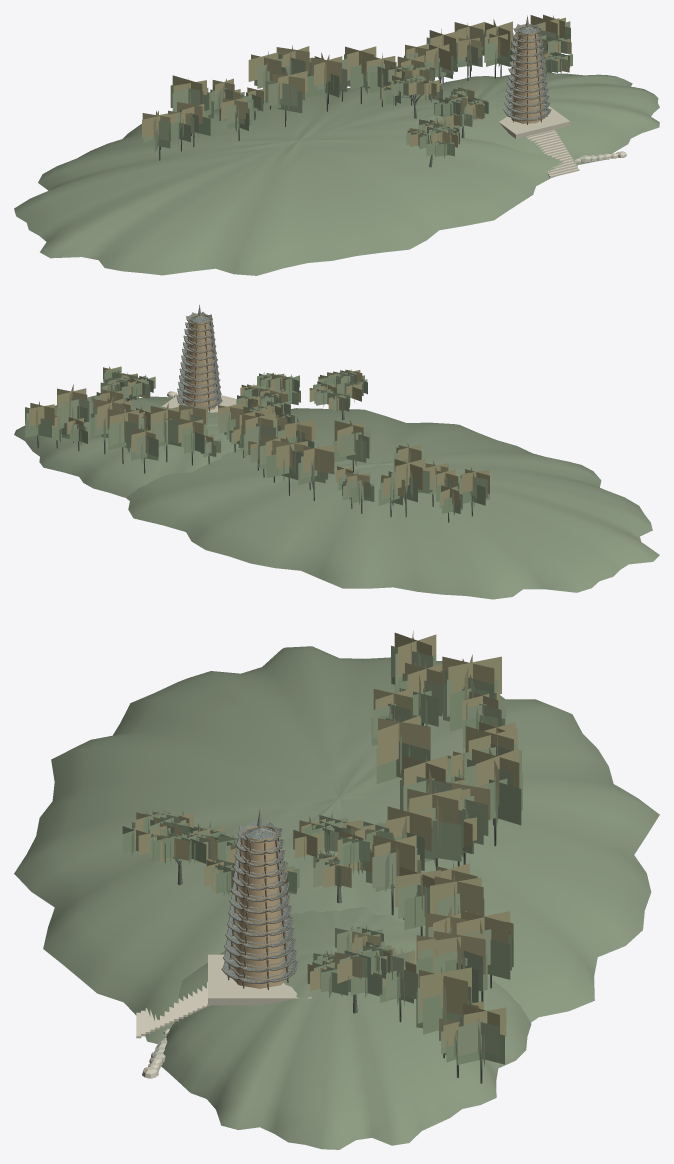
Rendered from liuhe-tide.glb.
3 views of the same model, one above another, from view 1: azimuth 30°, elevation 25°; view 2: azimuth 150°, elevation 25°; view 3: azimuth 270°, elevation 25° (orthographic). The views are drawn at different scales.
Parts seen in each view (by area): view 1: earth, crown2, crown1, crown0, ochre, ridge, roof, stone, stoneedge, wooddark, bark; view 2: earth, crown2, crown1, crown0, ochre, ridge, roof, wooddark, bark; view 3: earth, crown2, crown0, crown1, ochre, ridge, roof, stone, wooddark, stoneedge, bark.
Part boxes in pixels (x1=…): earth: x1=14, y1=72, x2=659, y2=275; crown2: x1=142, y1=14, x2=571, y2=147; crown1: x1=143, y1=21, x2=570, y2=157; crown0: x1=142, y1=32, x2=572, y2=158; ochre: x1=510, y1=25, x2=544, y2=123; ridge: x1=504, y1=24, x2=550, y2=119; roof: x1=504, y1=24, x2=550, y2=119; stone: x1=498, y1=106, x2=626, y2=163; stoneedge: x1=526, y1=129, x2=579, y2=177; wooddark: x1=503, y1=28, x2=551, y2=123; bark: x1=159, y1=51, x2=553, y2=167; earth: x1=14, y1=395, x2=659, y2=599; crown2: x1=29, y1=366, x2=489, y2=506; crown1: x1=25, y1=368, x2=487, y2=508; crown0: x1=25, y1=369, x2=489, y2=515; ochre: x1=182, y1=314, x2=216, y2=410; ridge: x1=177, y1=311, x2=222, y2=407; roof: x1=177, y1=312, x2=221, y2=407; wooddark: x1=176, y1=315, x2=222, y2=410; bark: x1=37, y1=387, x2=472, y2=522; earth: x1=14, y1=646, x2=659, y2=1149; crown2: x1=135, y1=631, x2=519, y2=1047; crown0: x1=122, y1=654, x2=522, y2=1066; crown1: x1=132, y1=638, x2=517, y2=1060; ochre: x1=230, y1=825, x2=289, y2=988; ridge: x1=221, y1=821, x2=297, y2=982; roof: x1=223, y1=821, x2=297, y2=982; stone: x1=142, y1=954, x2=311, y2=1078; wooddark: x1=221, y1=826, x2=298, y2=987; stoneedge: x1=136, y1=981, x2=210, y2=1038; bark: x1=175, y1=719, x2=496, y2=1083.
Size of the model in its own units: 149 by 30.45 by 81.16.
